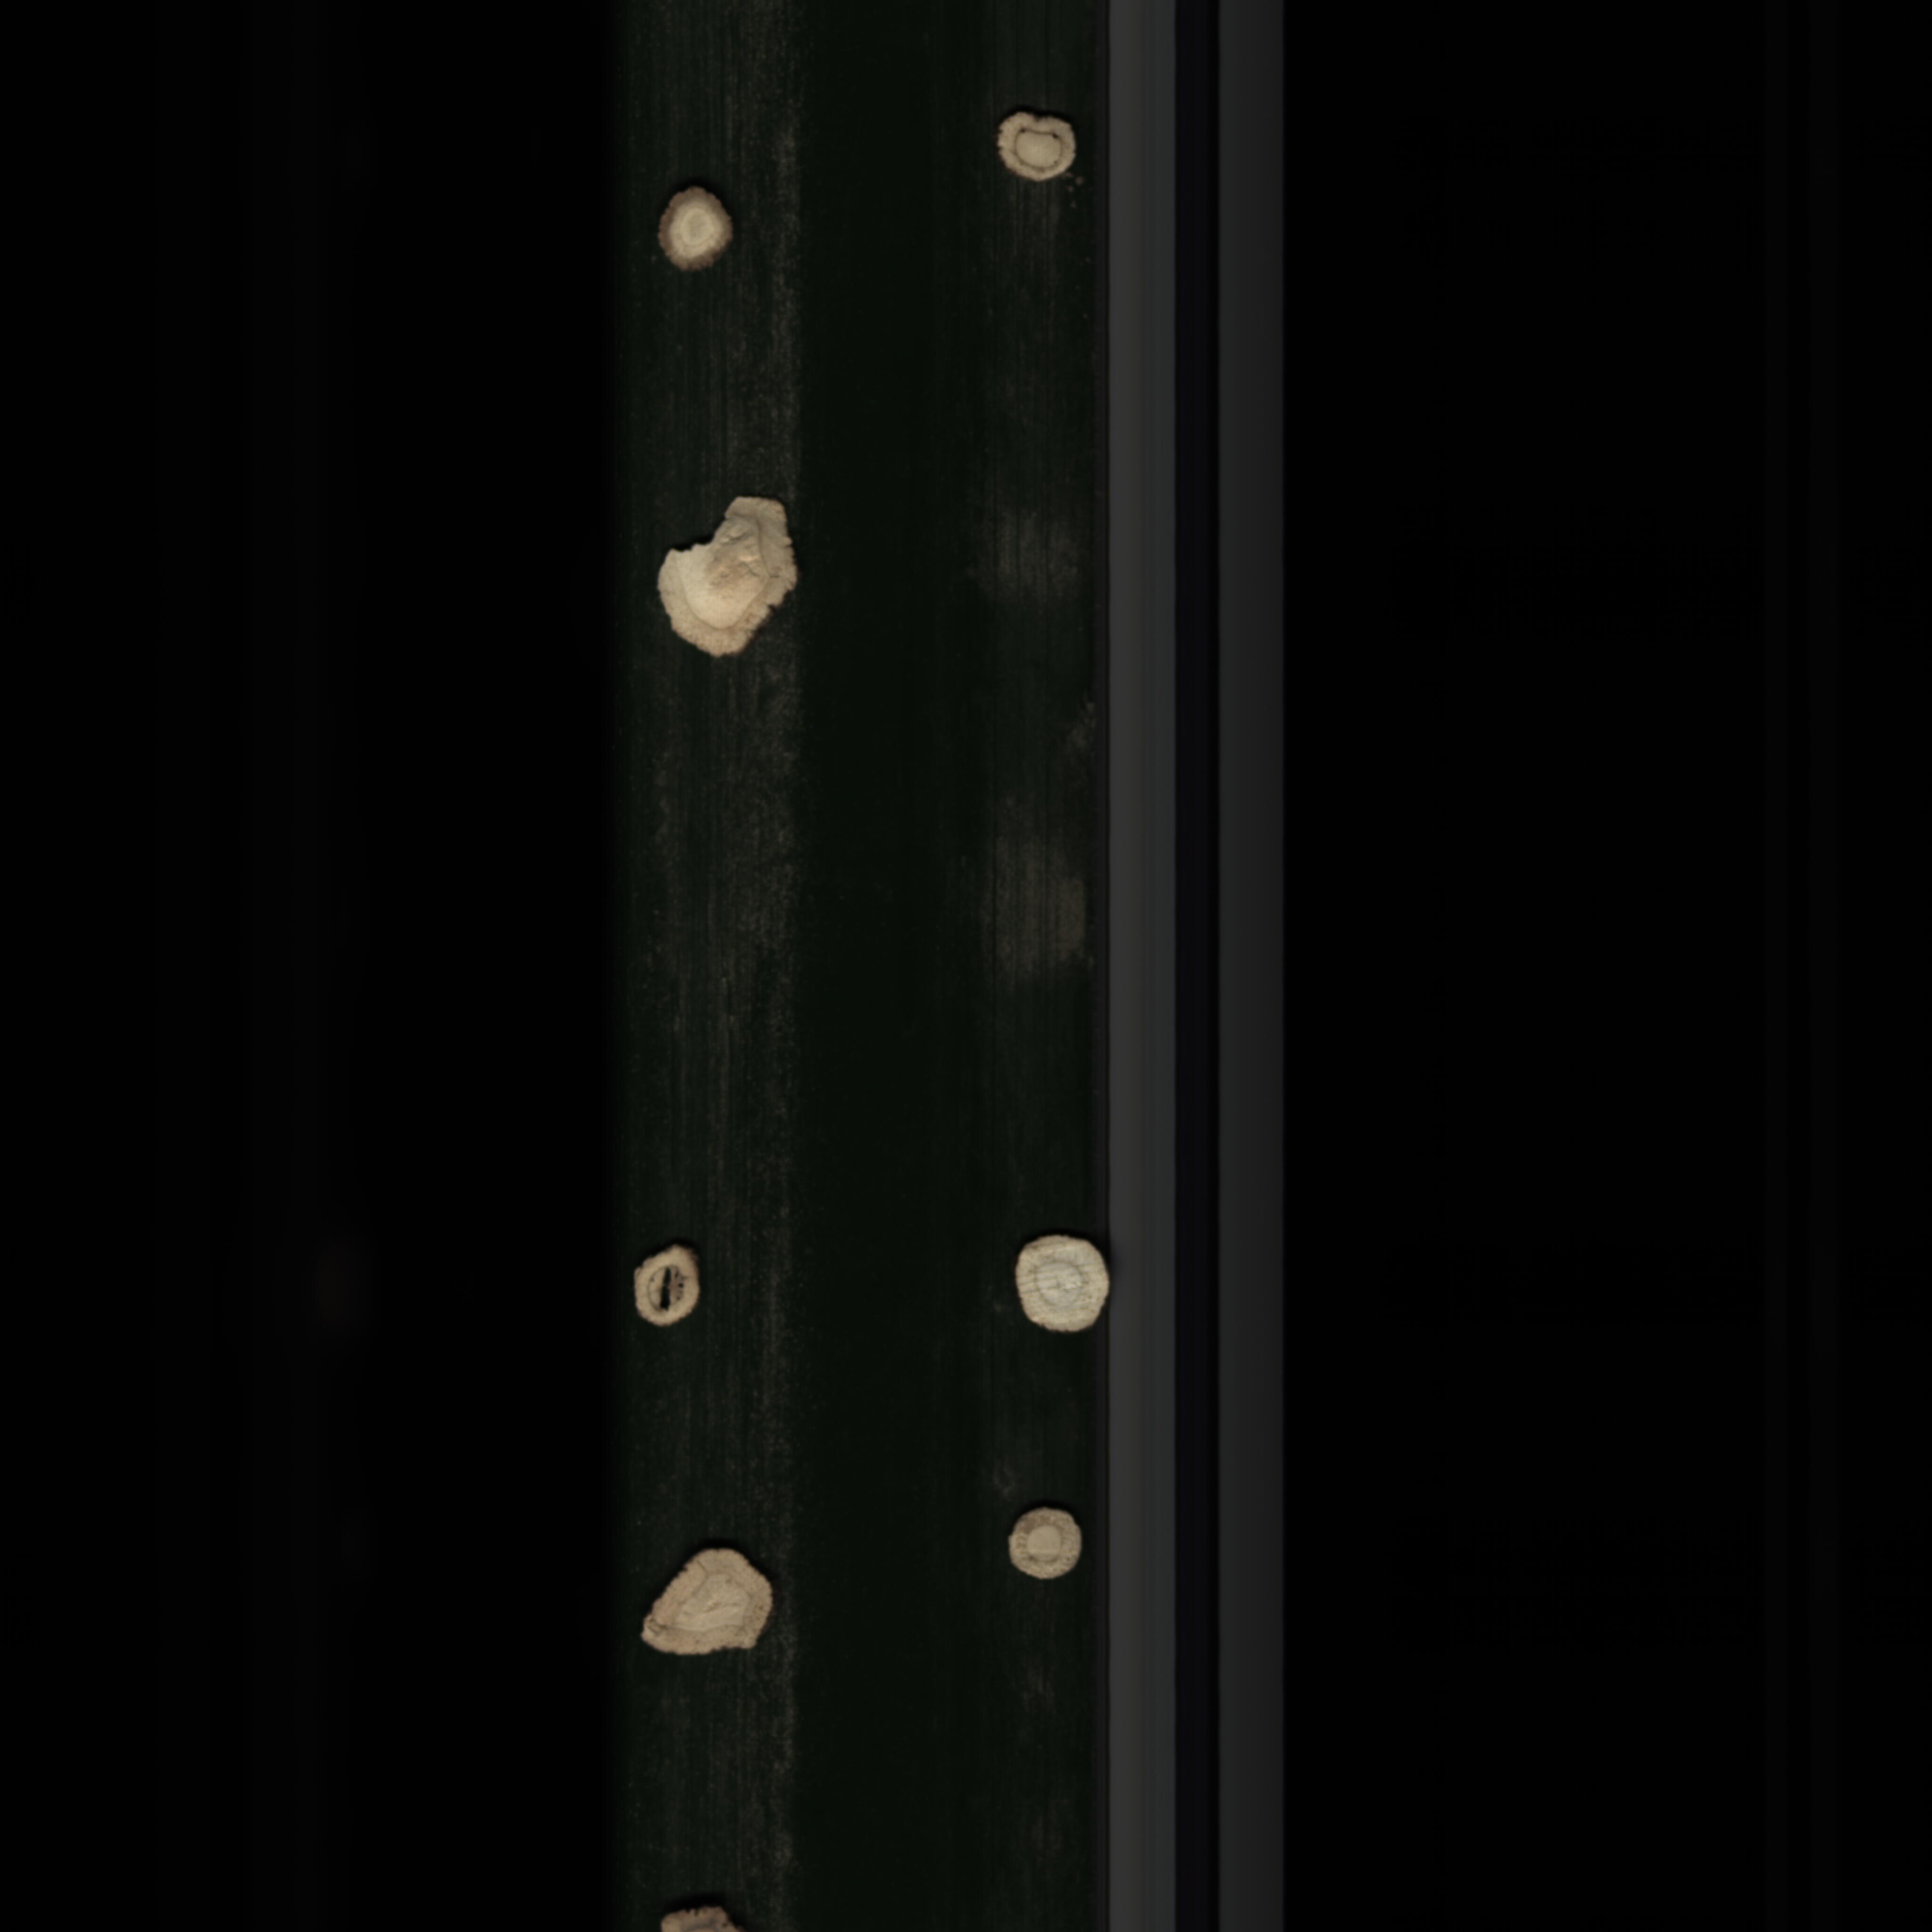debris: (646, 487, 823, 667)
distortion: (630, 1532, 786, 1688)
hole: (616, 1233, 720, 1352)
moldy: (649, 180, 745, 278), (993, 106, 1083, 189)
